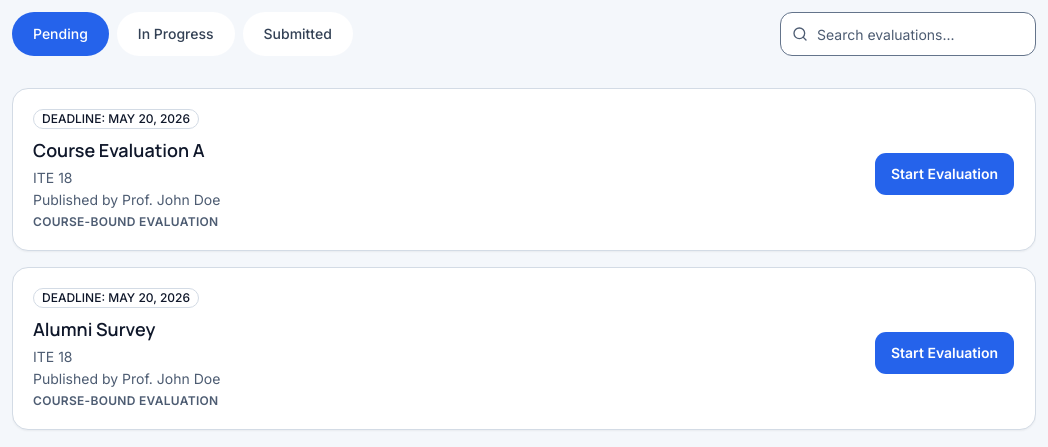
Scenario: EvaluationListBrowser › filters the active tab by search term
Type "alumni" into the search field labelled "Search evaluations" at (908, 34), box [780,12,1036,56]
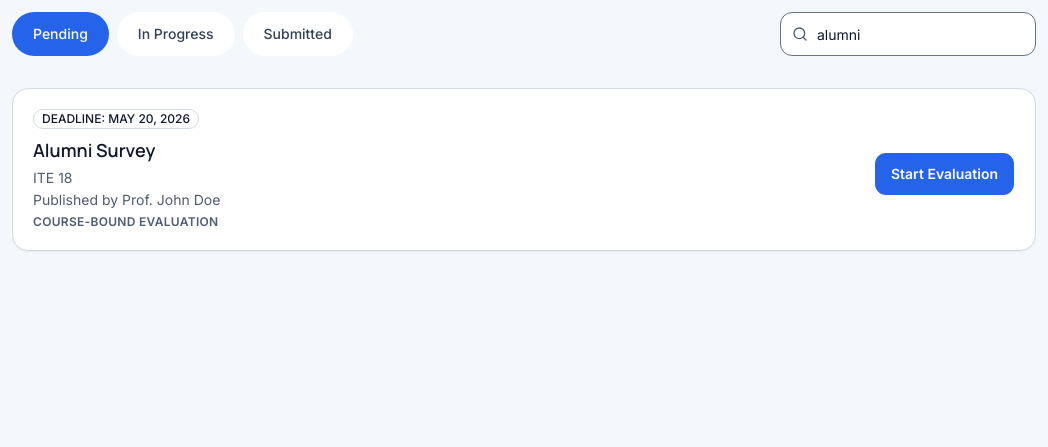
Expected: the heading "Alumni Survey" is shown, [33,138,155,162]
Expected: the heading "Course Evaluation A" is gone
